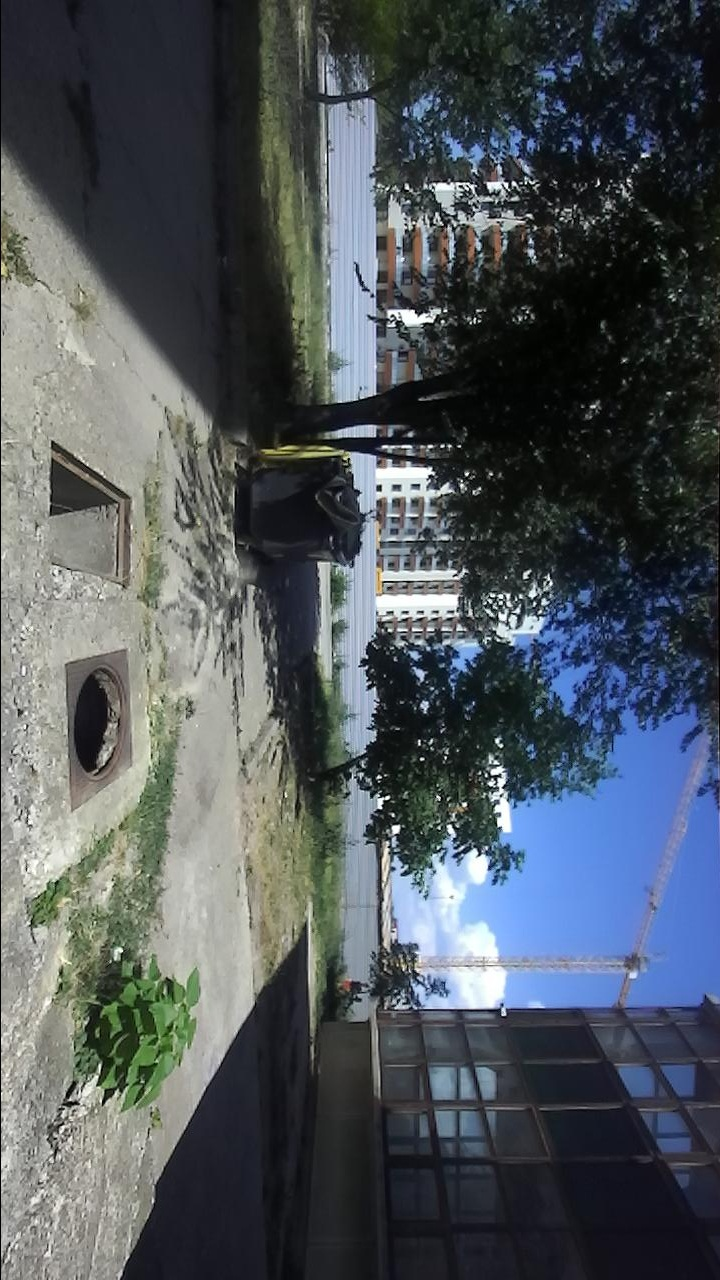drain: (46, 431, 134, 590), (74, 662, 129, 787)
